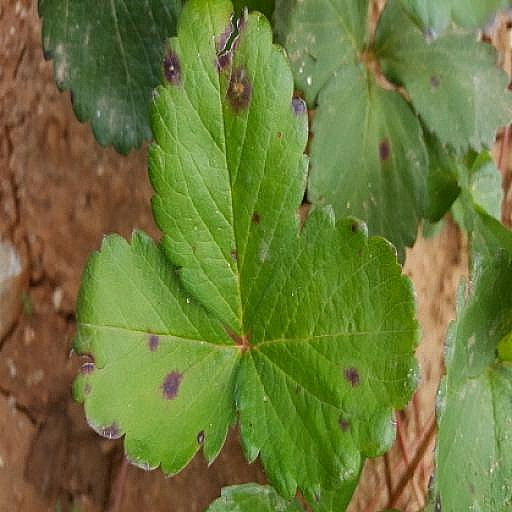Leaf Spot: (89, 205, 277, 503), (202, 0, 365, 343), (266, 226, 447, 480), (83, 62, 207, 268), (0, 248, 97, 511), (0, 33, 110, 155)
